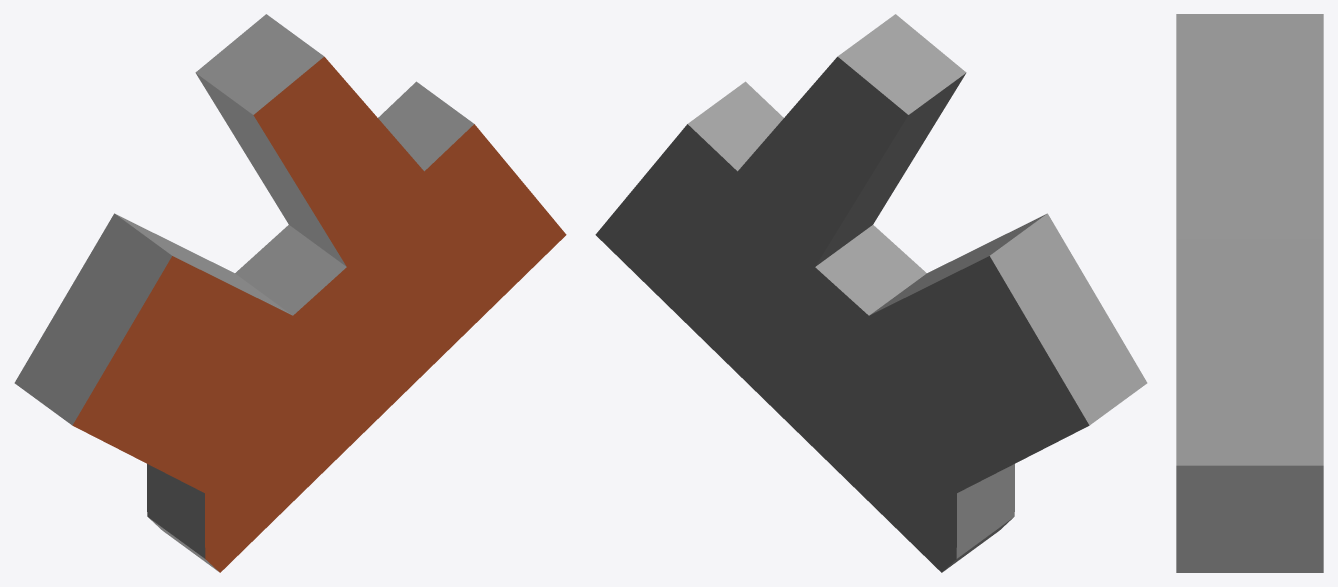
Rendered from construction_6242_assumed_A_Casa_h6m.obj.
The picture shows the model from 3 angles, left to right: view 1: azimuth 30°, elevation 25°; view 2: azimuth 150°, elevation 25°; view 3: azimuth 270°, elevation 25°; orthographic projection. The views are drawn at different scales.
Parts seen in each view (by area): view 1: construction_6242_assumed_A_Casa; view 2: construction_6242_assumed_A_Casa; view 3: construction_6242_assumed_A_Casa.
Part boxes in pixels (x1,y1,x2,y2): construction_6242_assumed_A_Casa: (14, 14, 566, 572); construction_6242_assumed_A_Casa: (595, 14, 1147, 572); construction_6242_assumed_A_Casa: (1176, 14, 1323, 572).
Size of the model in its own units: 29.5 by 28.01 by 6.
